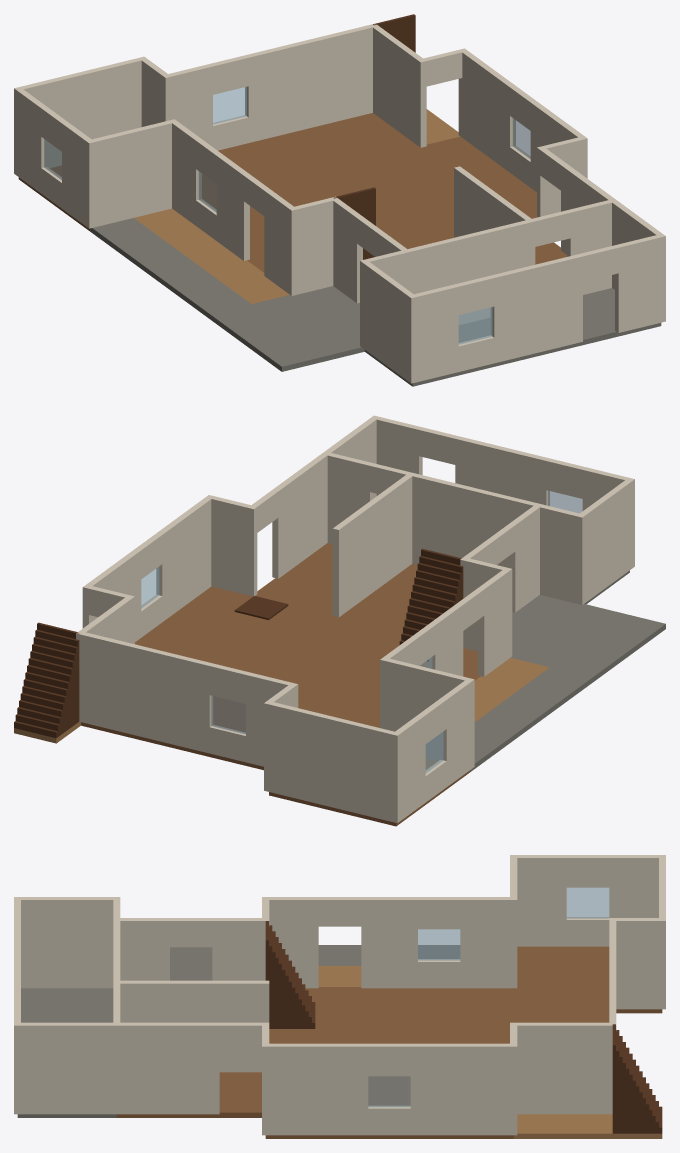
The model's file is planta-baja.glb.
3 views of the same model, one above another, from view 1: azimuth 30°, elevation 25°; view 2: azimuth 150°, elevation 25°; view 3: azimuth 270°, elevation 25° (orthographic). The views are drawn at different scales.
Parts seen in each view (by area): view 1: planta-baja-muros, planta-baja-suelos, planta-baja-vanos, planta-baja-vidrios, planta-baja-escaleras; view 2: planta-baja-muros, planta-baja-suelos, planta-baja-vanos, planta-baja-escaleras, planta-baja-vidrios; view 3: planta-baja-muros, planta-baja-suelos, planta-baja-vanos, planta-baja-escaleras, planta-baja-vidrios.
Boxes of the visible parts, x1,y1,x2,y2 form: planta-baja-muros: [14, 23, 665, 383]; planta-baja-suelos: [18, 109, 661, 386]; planta-baja-vanos: [38, 49, 623, 372]; planta-baja-vidrios: [44, 87, 530, 344]; planta-baja-escaleras: [334, 14, 415, 259]; planta-baja-muros: [76, 415, 634, 823]; planta-baja-suelos: [14, 543, 665, 826]; planta-baja-vanos: [82, 426, 590, 804]; planta-baja-escaleras: [14, 548, 463, 738]; planta-baja-vidrios: [141, 490, 582, 773]; planta-baja-muros: [14, 855, 665, 1135]; planta-baja-suelos: [17, 945, 662, 1138]; planta-baja-vanos: [14, 855, 616, 1135]; planta-baja-escaleras: [265, 921, 662, 1133]; planta-baja-vidrios: [368, 887, 609, 1107].
Bounding box in the file's own units: 13.94 × 3.18 × 20.03.
